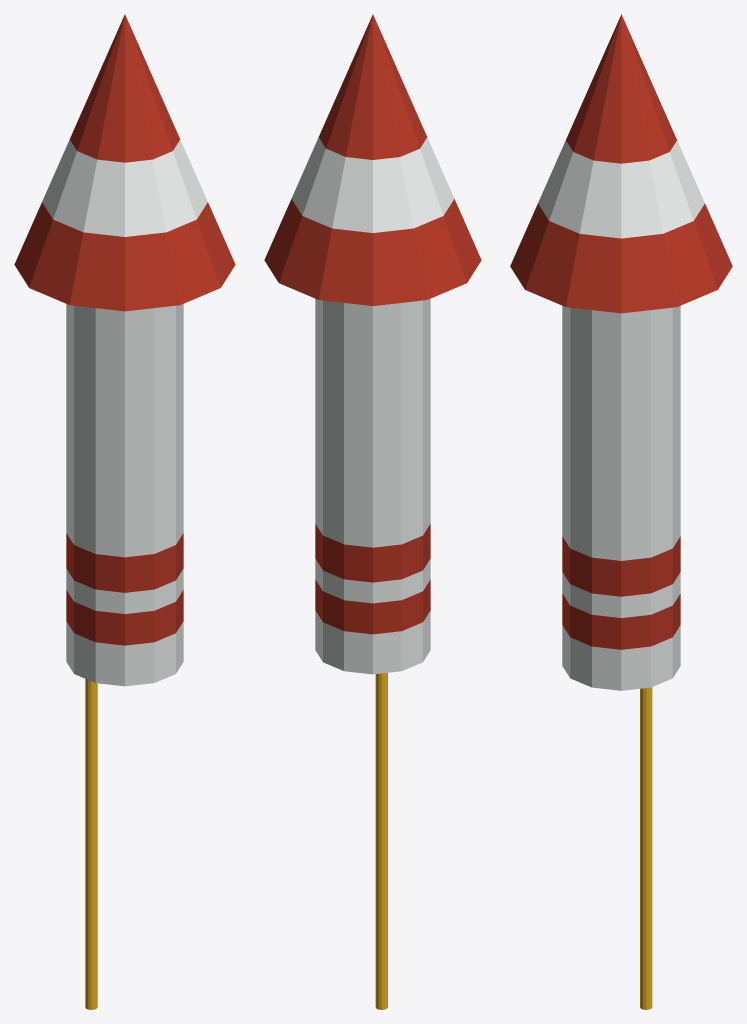
The model's file is phao hoa.fbx.
3 views of the same model, side by side, from view 1: azimuth 30°, elevation 25°; view 2: azimuth 150°, elevation 25°; view 3: azimuth 270°, elevation 25° (orthographic). The views are drawn at different scales.
Parts seen in each view (by area): view 1: model:Mesh; view 2: model:Mesh; view 3: model:Mesh.
Part boxes in pixels (bbox=[...]): model:Mesh: bbox=[14, 14, 235, 1009]; model:Mesh: bbox=[264, 14, 481, 1009]; model:Mesh: bbox=[510, 14, 732, 1009].
Bounding box in the file's own units: 1.74 × 8.68 × 1.74.
1 material, 1 textured.
